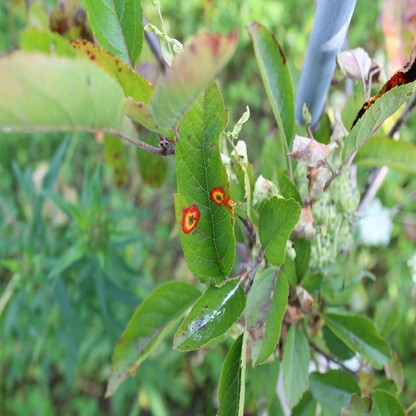rust: (350, 47, 416, 130), (287, 137, 331, 160), (210, 188, 234, 214), (181, 204, 199, 232), (129, 365, 138, 375)
